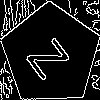Z: (25, 29, 78, 82)
